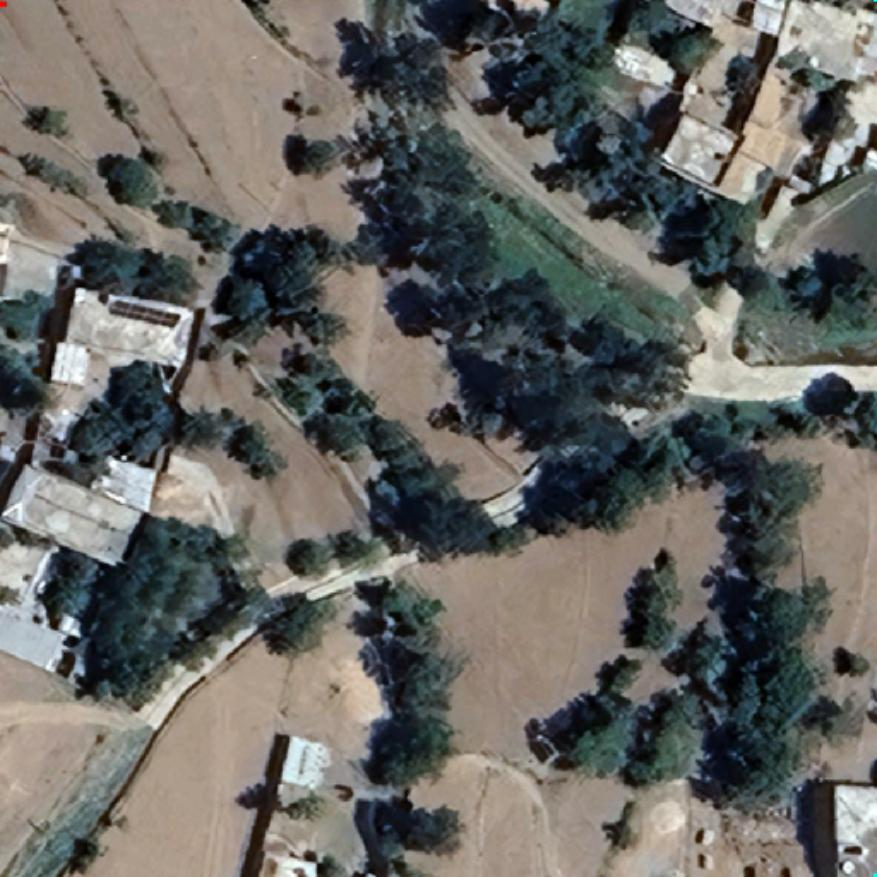Solarpanel: (105, 299, 184, 332)
